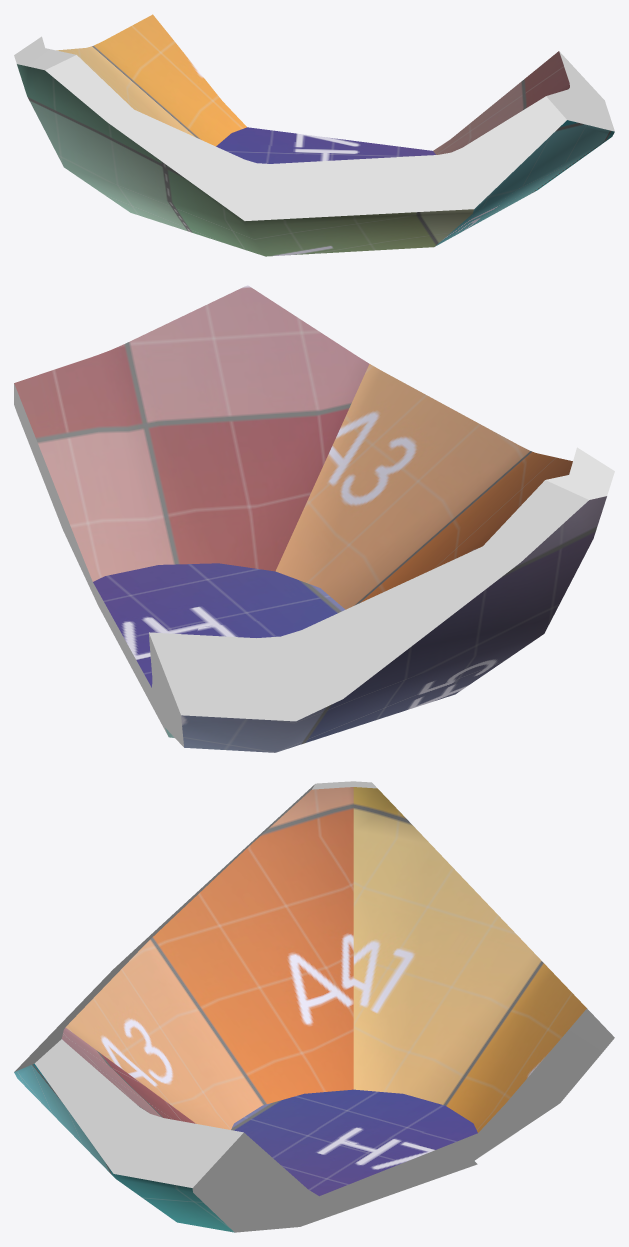
File: SmallVase_SHAT_cell_007.fbx
3 renders of one model, top to bottom at view 1: azimuth 30°, elevation 25°; view 2: azimuth 150°, elevation 25°; view 3: azimuth 270°, elevation 25°, orthographic. The views are drawn at different scales.
Visible parts, largest first — view 1: SmallVase_SHAT_cell_007; view 2: SmallVase_SHAT_cell_007; view 3: SmallVase_SHAT_cell_007.
Boxes of the visible parts, x1=… form: SmallVase_SHAT_cell_007: x1=14, y1=14, x2=614, y2=256; SmallVase_SHAT_cell_007: x1=14, y1=285, x2=614, y2=752; SmallVase_SHAT_cell_007: x1=14, y1=781, x2=614, y2=1232.
Bounding box in the file's own units: 0.866 × 0.3606 × 0.7765.
Materials: 2 (1 with a texture image).
